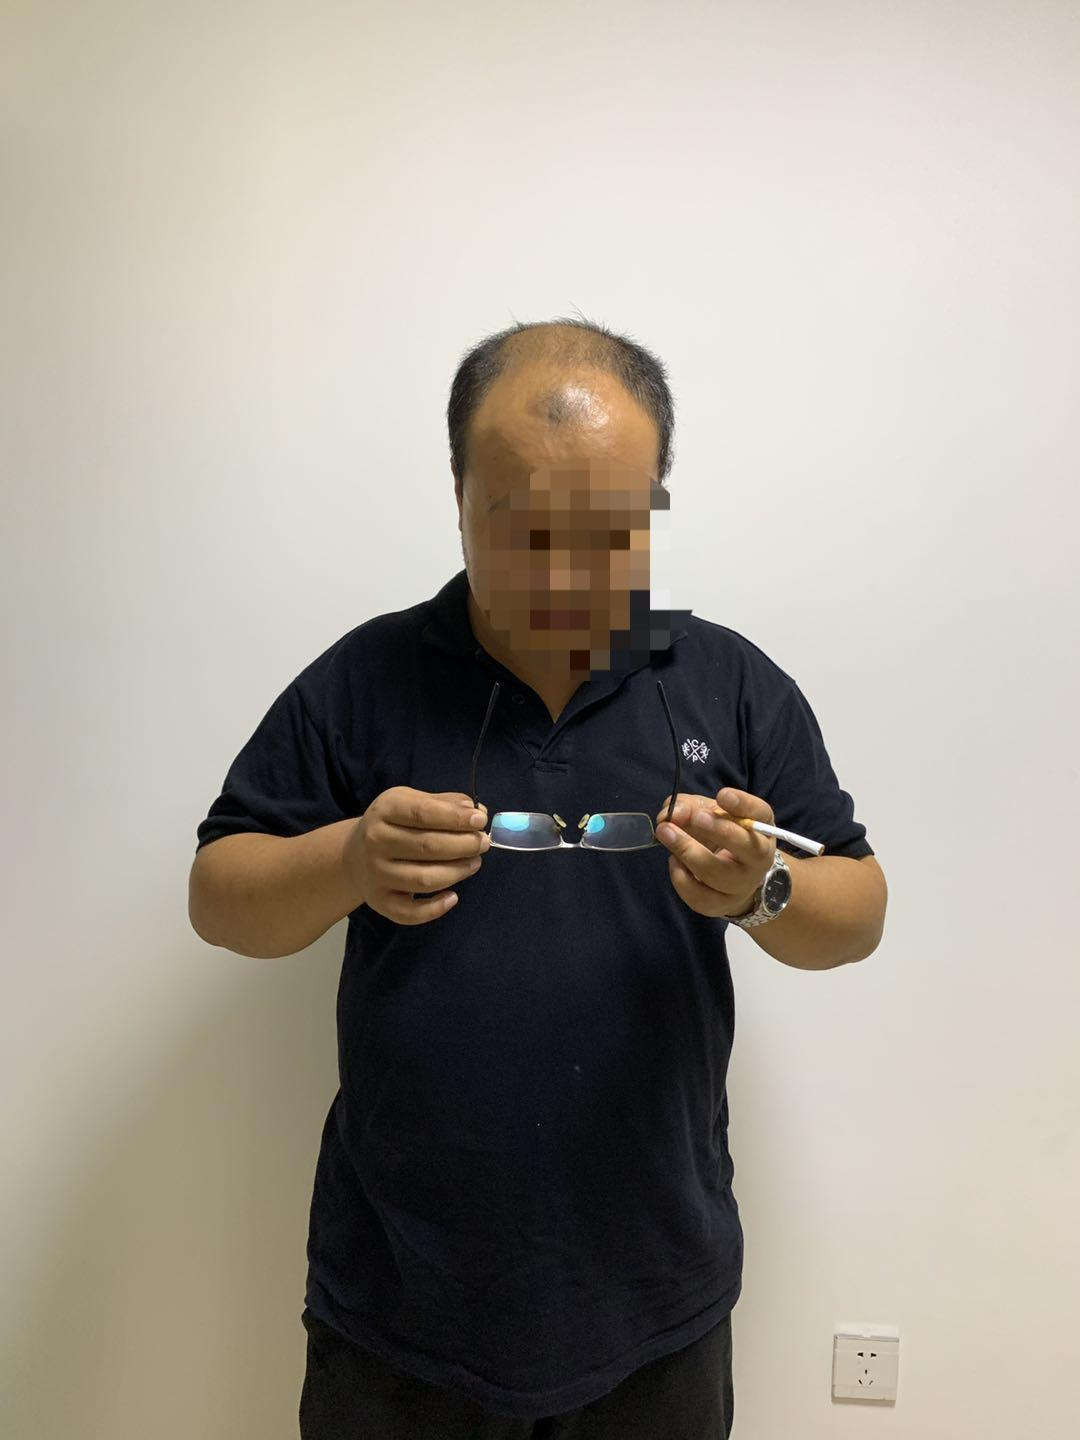smoke: (735, 815, 826, 859)
